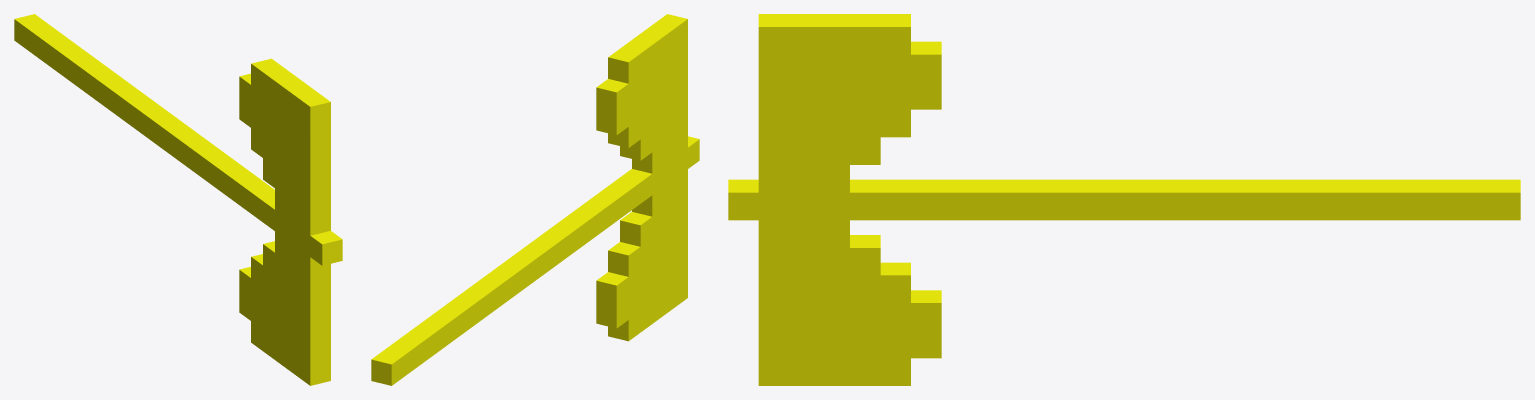
The model's file is voxel-rangers-axe.glb.
3 renders of one model, left to right at view 1: azimuth 30°, elevation 25°; view 2: azimuth 150°, elevation 25°; view 3: azimuth 270°, elevation 25°, orthographic. The views are drawn at different scales.
Parts seen in each view (by area): view 1: VS_Rangers_Props_Axe_001; view 2: VS_Rangers_Props_Axe_001; view 3: VS_Rangers_Props_Axe_001.
Part boxes in pixels (<box>): VS_Rangers_Props_Axe_001: <box>14,14,342,385</box>; VS_Rangers_Props_Axe_001: <box>371,14,699,385</box>; VS_Rangers_Props_Axe_001: <box>728,14,1520,385</box>.
Size of the model in its own units: 0.1 by 1.3 by 2.6.
